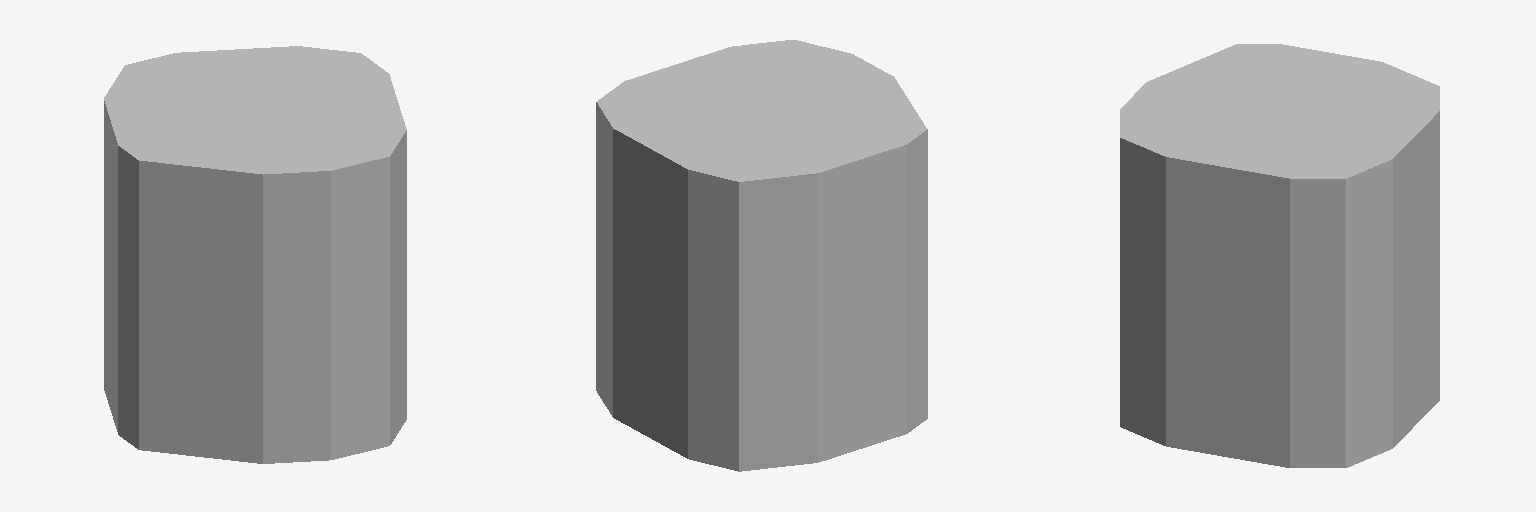
Rendered from trunk1.obj.
3 renders of one model, left to right at view 1: azimuth 30°, elevation 25°; view 2: azimuth 150°, elevation 25°; view 3: azimuth 270°, elevation 25°, orthographic.
Parts seen in each view (by area): view 1: Cube.009_Cube.004; view 2: Cube.009_Cube.004; view 3: Cube.009_Cube.004.
Part boxes in pixels (x1,y1,x2,y2): Cube.009_Cube.004: (104,46,406,463); Cube.009_Cube.004: (596,40,927,471); Cube.009_Cube.004: (1120,44,1439,467).
Size of the model in its own units: 1 by 1 by 1.